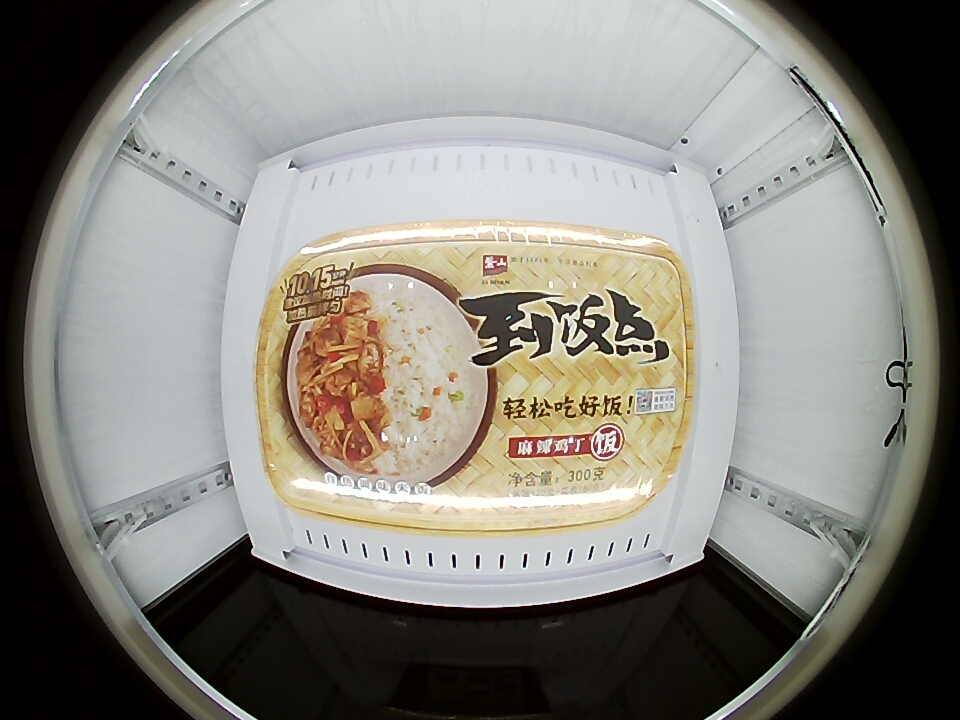daofandian4: (273, 223, 703, 532)
